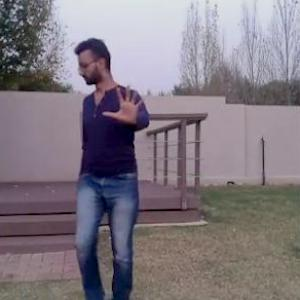follow_hand: (101, 79, 152, 132)
